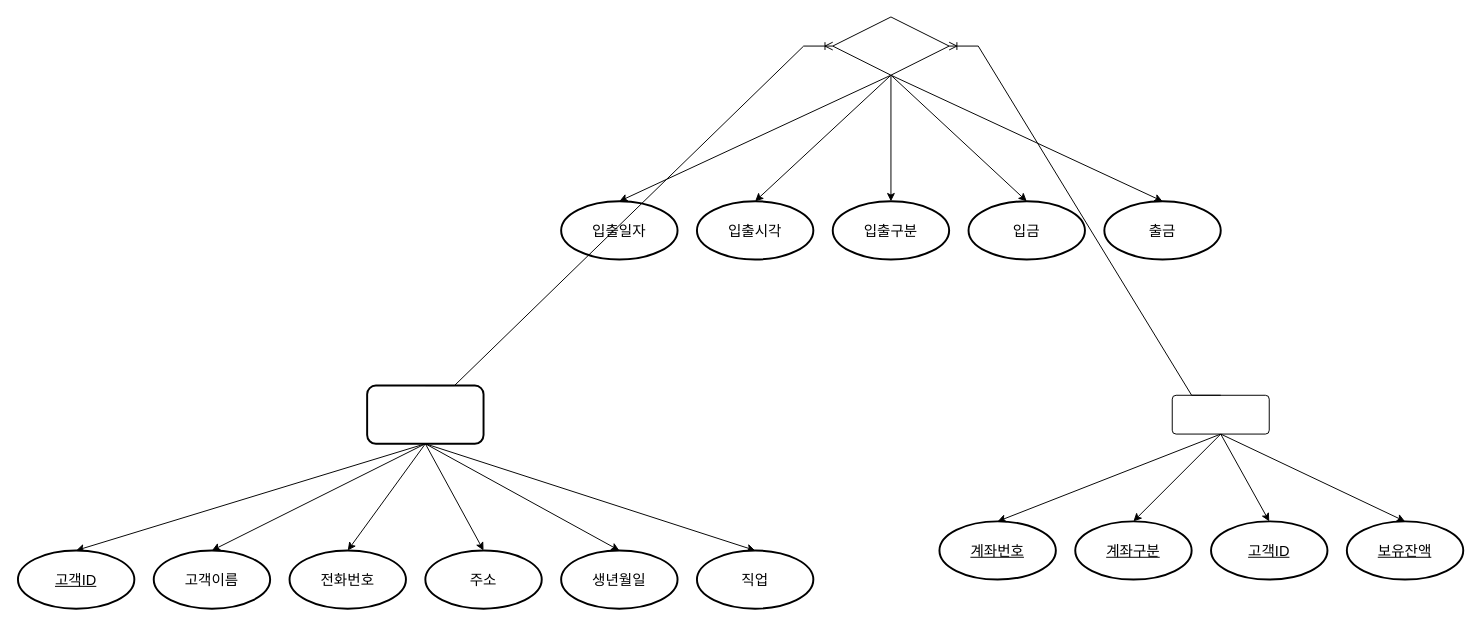
Image size: 1480x627. Some labels were removed from this diagram. The shapes that lost their labels are listed below. From the top down, each one's centre as x and y in pixels, then its label:
At point 890,45: "거래내역".
At point 425,414: "고객정보".
At point 1220,414: "계좌정보".
